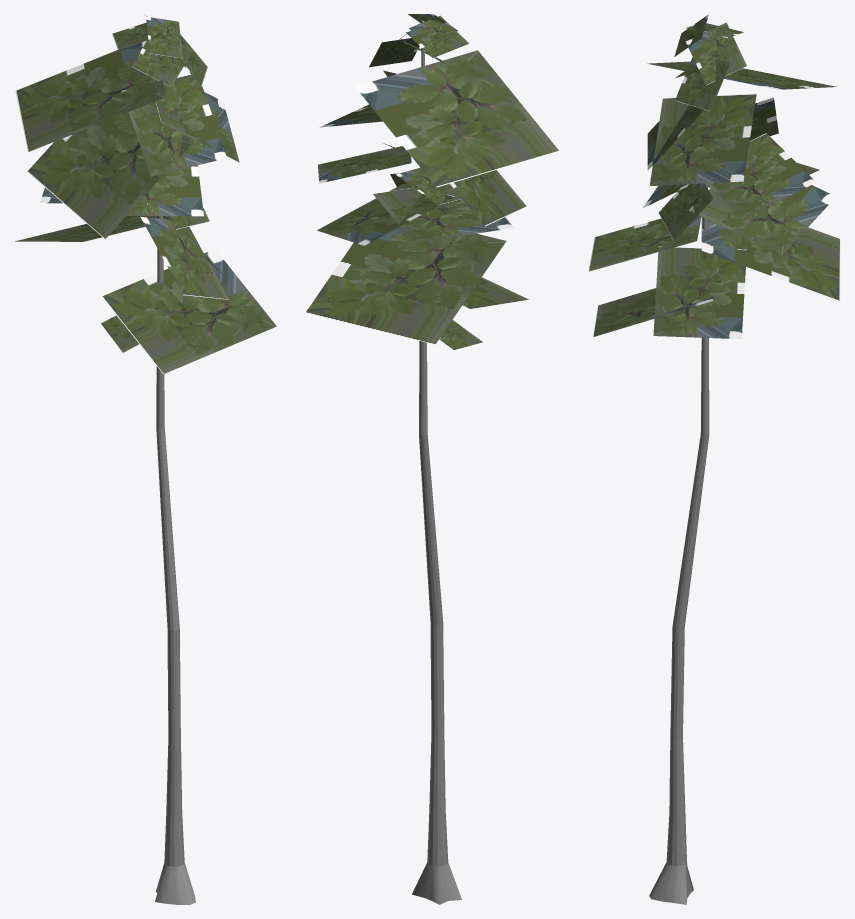
File: tree_2_3.FBX
3 renders of one model, left to right at view 1: azimuth 30°, elevation 25°; view 2: azimuth 150°, elevation 25°; view 3: azimuth 270°, elevation 25°, orthographic. The views are drawn at different scales.
Visible parts, largest first — view 1: Plane006, Cylinder005; view 2: Plane006, Cylinder005; view 3: Plane006, Cylinder005.
Boxes of the visible parts, left/top/right/bottom form: Plane006: left=15, top=14, right=276, bottom=373; Cylinder005: left=155, top=55, right=195, bottom=904; Plane006: left=305, top=14, right=559, bottom=350; Cylinder005: left=412, top=21, right=461, bottom=904; Plane006: left=588, top=14, right=840, bottom=339; Cylinder005: left=649, top=31, right=709, bottom=904.
Bounding box in the file's own units: 281 × 1082 × 283.
